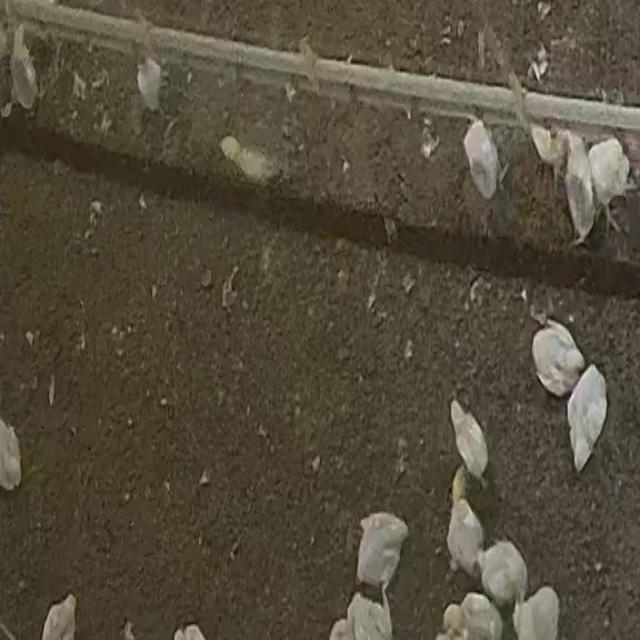chicken: (566, 364, 607, 472), (446, 396, 496, 483), (528, 319, 585, 395), (562, 131, 598, 248), (356, 511, 409, 588), (586, 137, 630, 229), (478, 540, 528, 609), (446, 498, 486, 582), (461, 117, 501, 201), (441, 591, 506, 640), (510, 586, 560, 640), (345, 585, 394, 640), (9, 23, 38, 111)
